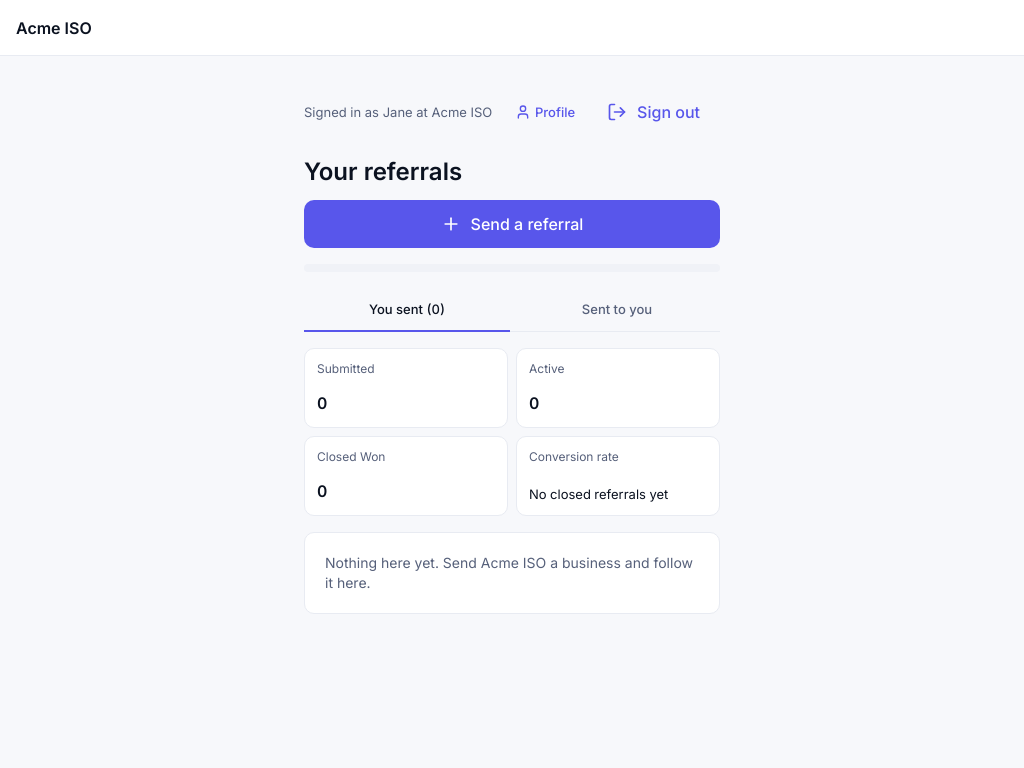
PortalSubmitPage › opens from the dashboard's Send a referral button
Click the button "Send a referral" at (512, 224), box [304,200,720,248]
(page scrolled)
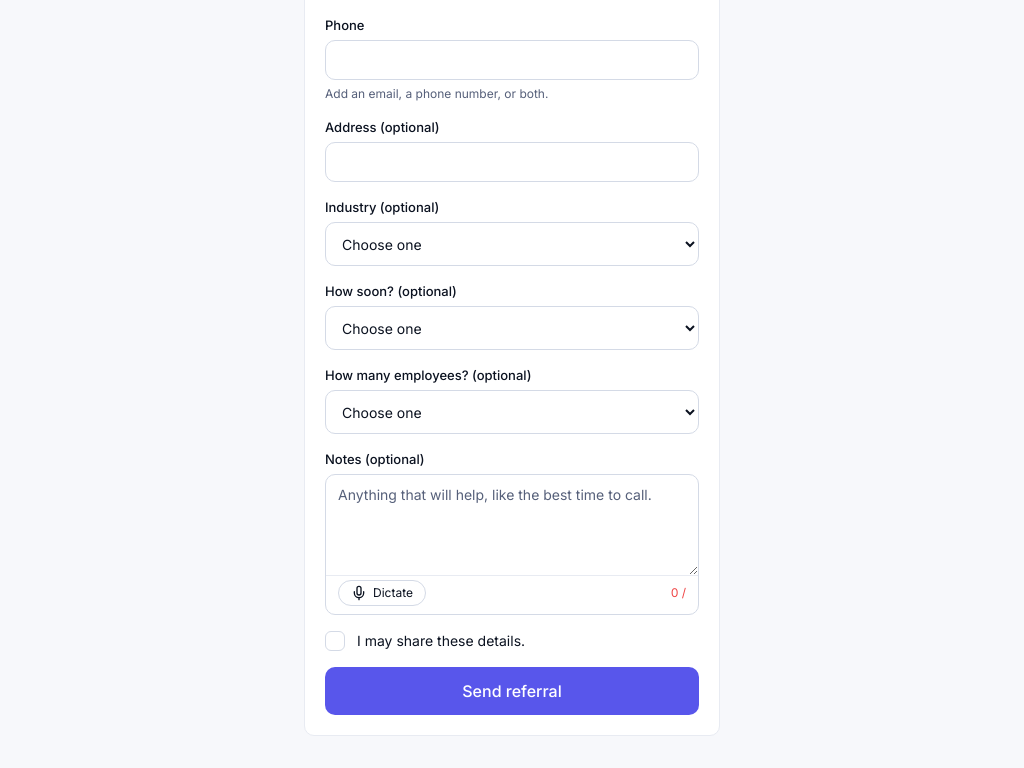
Now the checkbox named "I may share these details." is shown, box [325,631,345,651]
